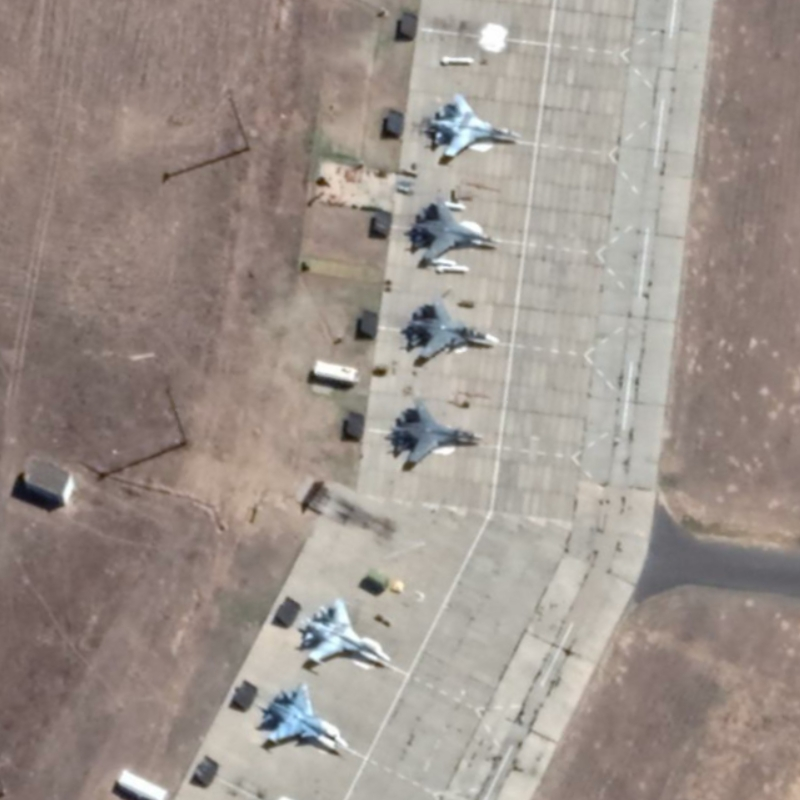A1: (386, 393, 488, 472), (422, 88, 526, 162), (407, 193, 505, 268), (296, 595, 392, 671)
A19: (400, 293, 502, 365), (257, 678, 350, 755)
